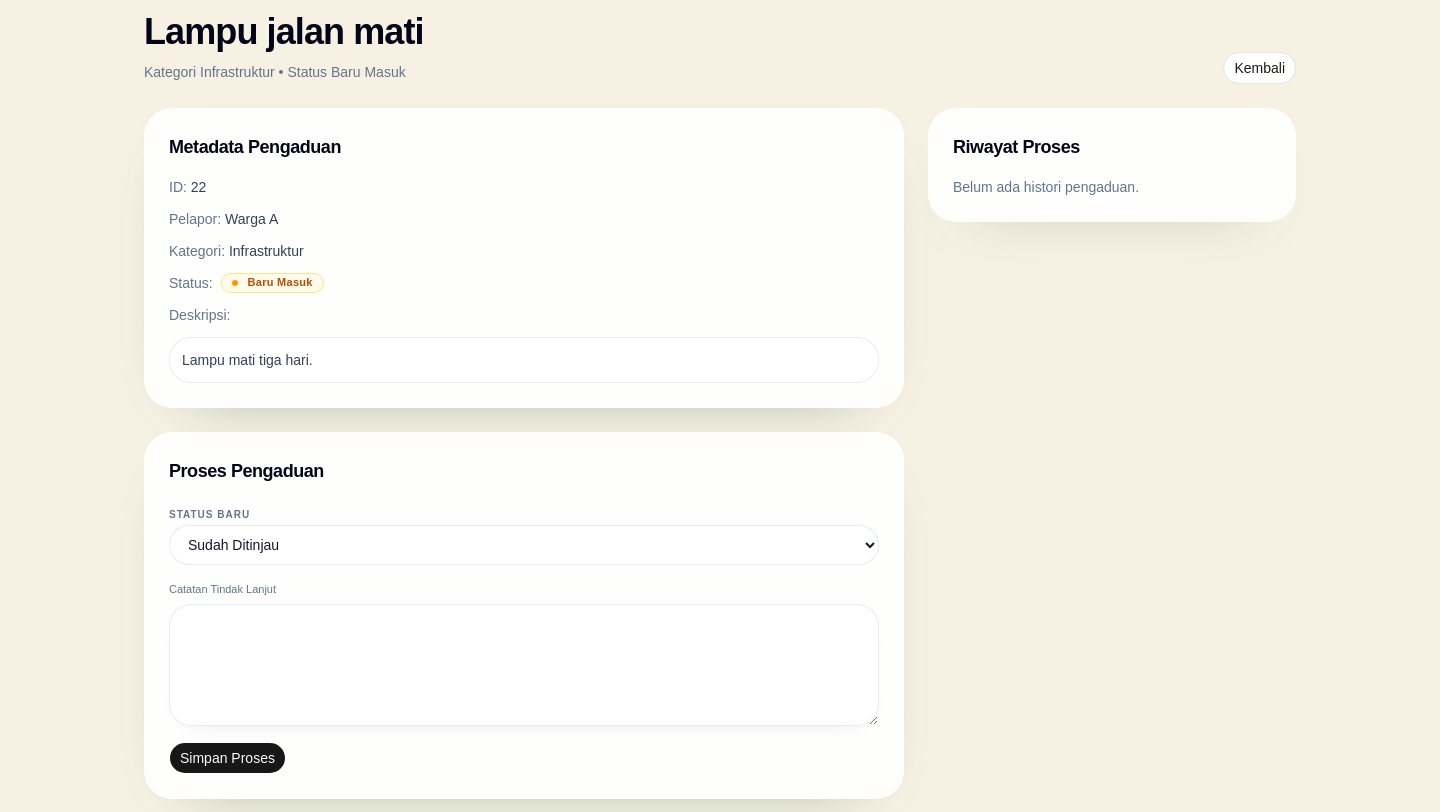
Test: AdminPengaduanDetailPage › proses pengaduan lalu tampil riwayat baru
Expected: the heading "Lampu jalan mati" is shown, x1=144 y1=12 x2=424 y2=52
Select "Sedang Ditangani" in the dropdown labelled "Status Baru" at (524, 545), box x1=169 y1=525 x2=879 y2=565
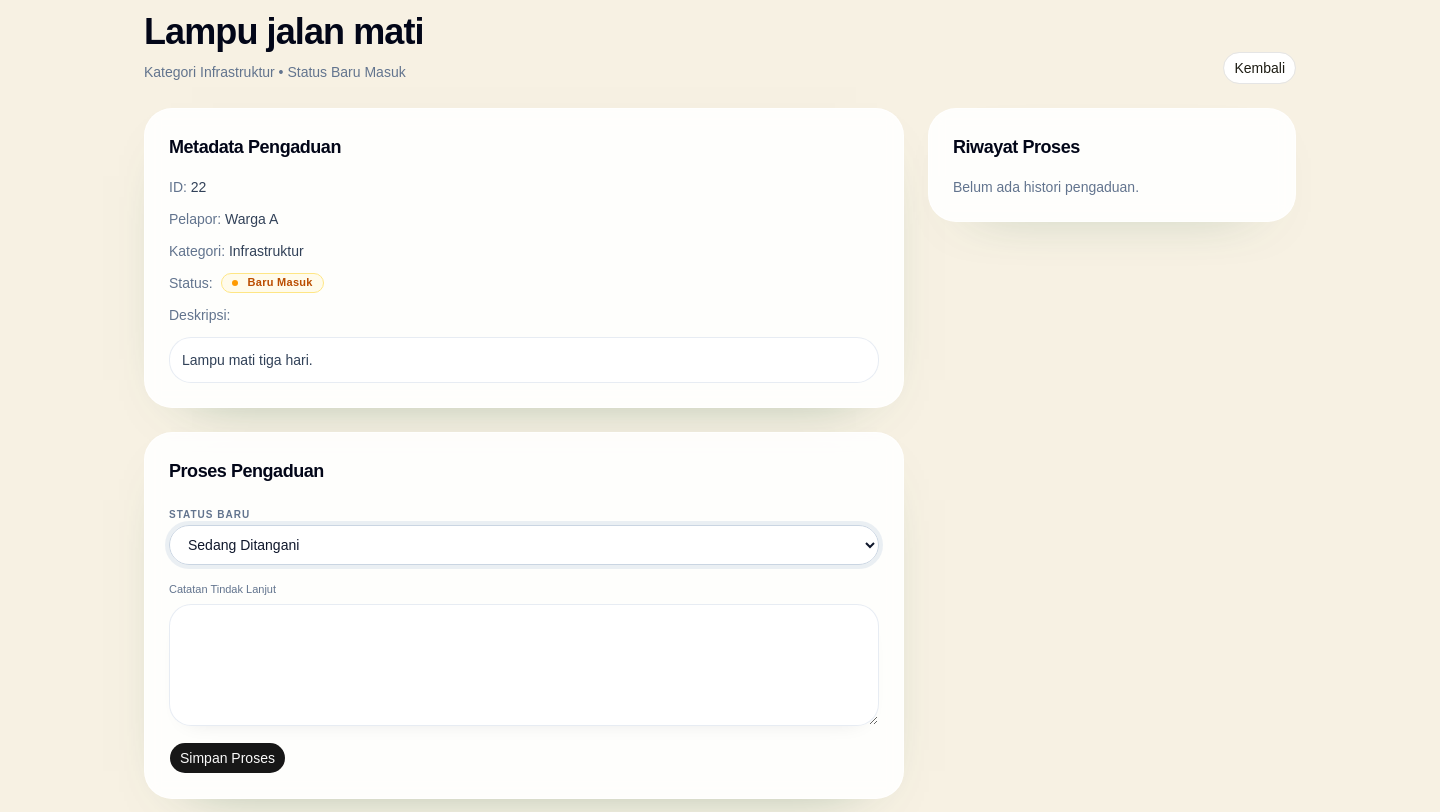
Type "Sudah diteruskan ke petugas" into the text box labelled "Catatan Tindak Lanjut" at (524, 664), box x1=169 y1=604 x2=879 y2=726
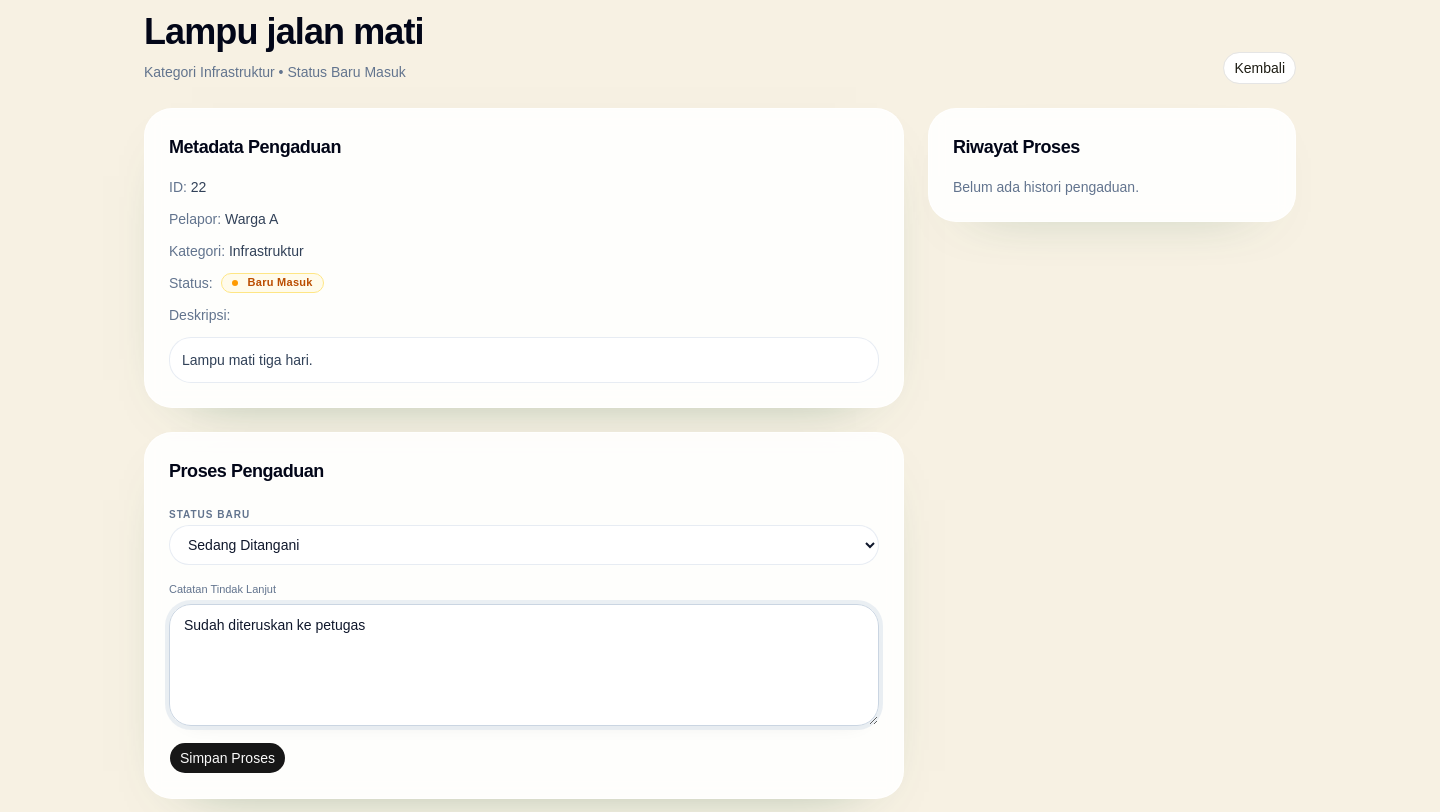
Click the button "Simpan Proses" at (227, 758), box x1=169 y1=742 x2=286 y2=774
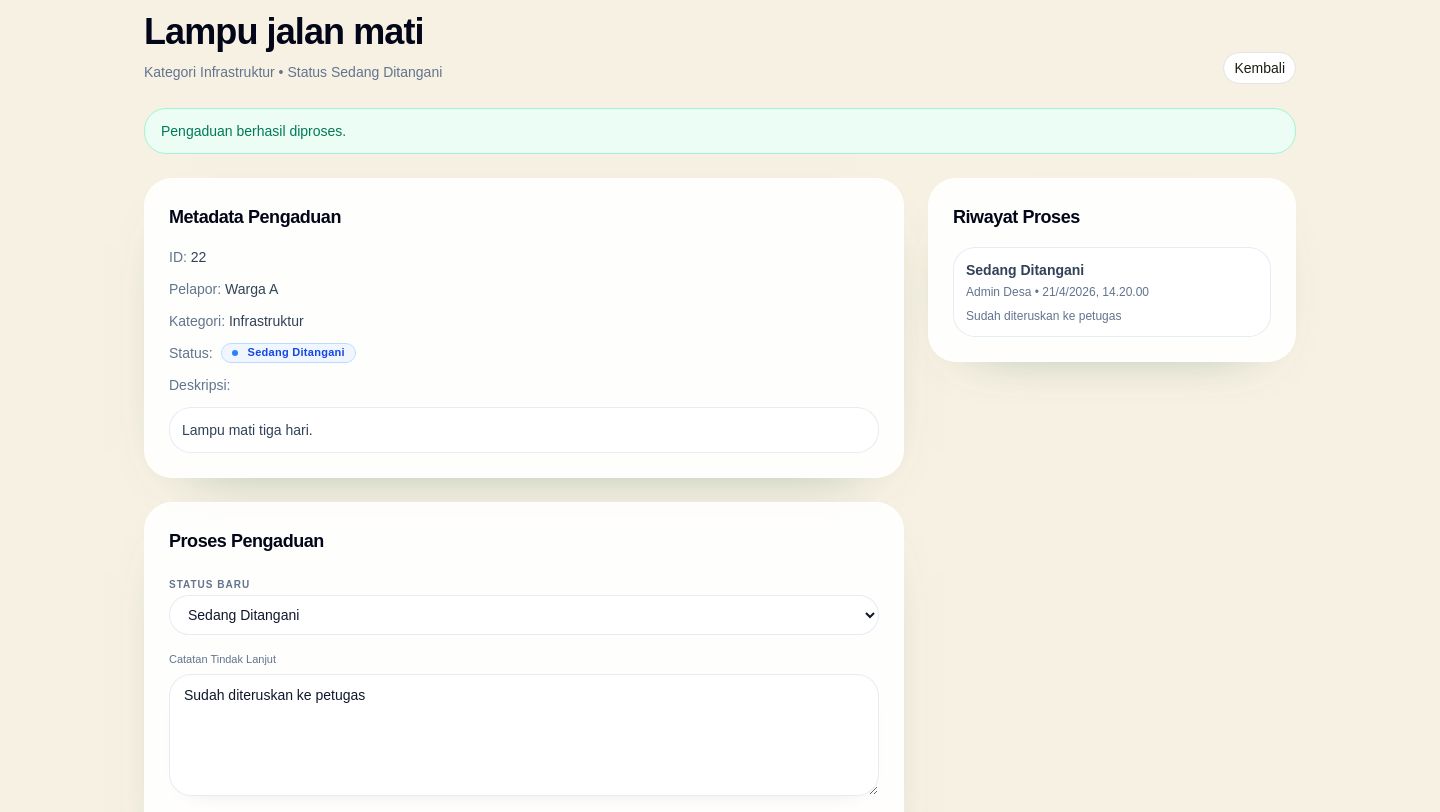
Expected: the element "Riwayat Proses" is shown, x1=928 y1=178 x2=1296 y2=362
Now the text "Pengaduan berhasil diproses." is shown, box x1=144 y1=108 x2=1296 y2=154
Now the text "Sedang Ditangani" is shown, box x1=966 y1=262 x2=1084 y2=278
